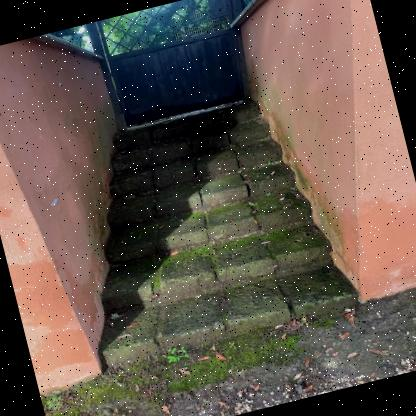stair: (37, 58, 358, 386)
